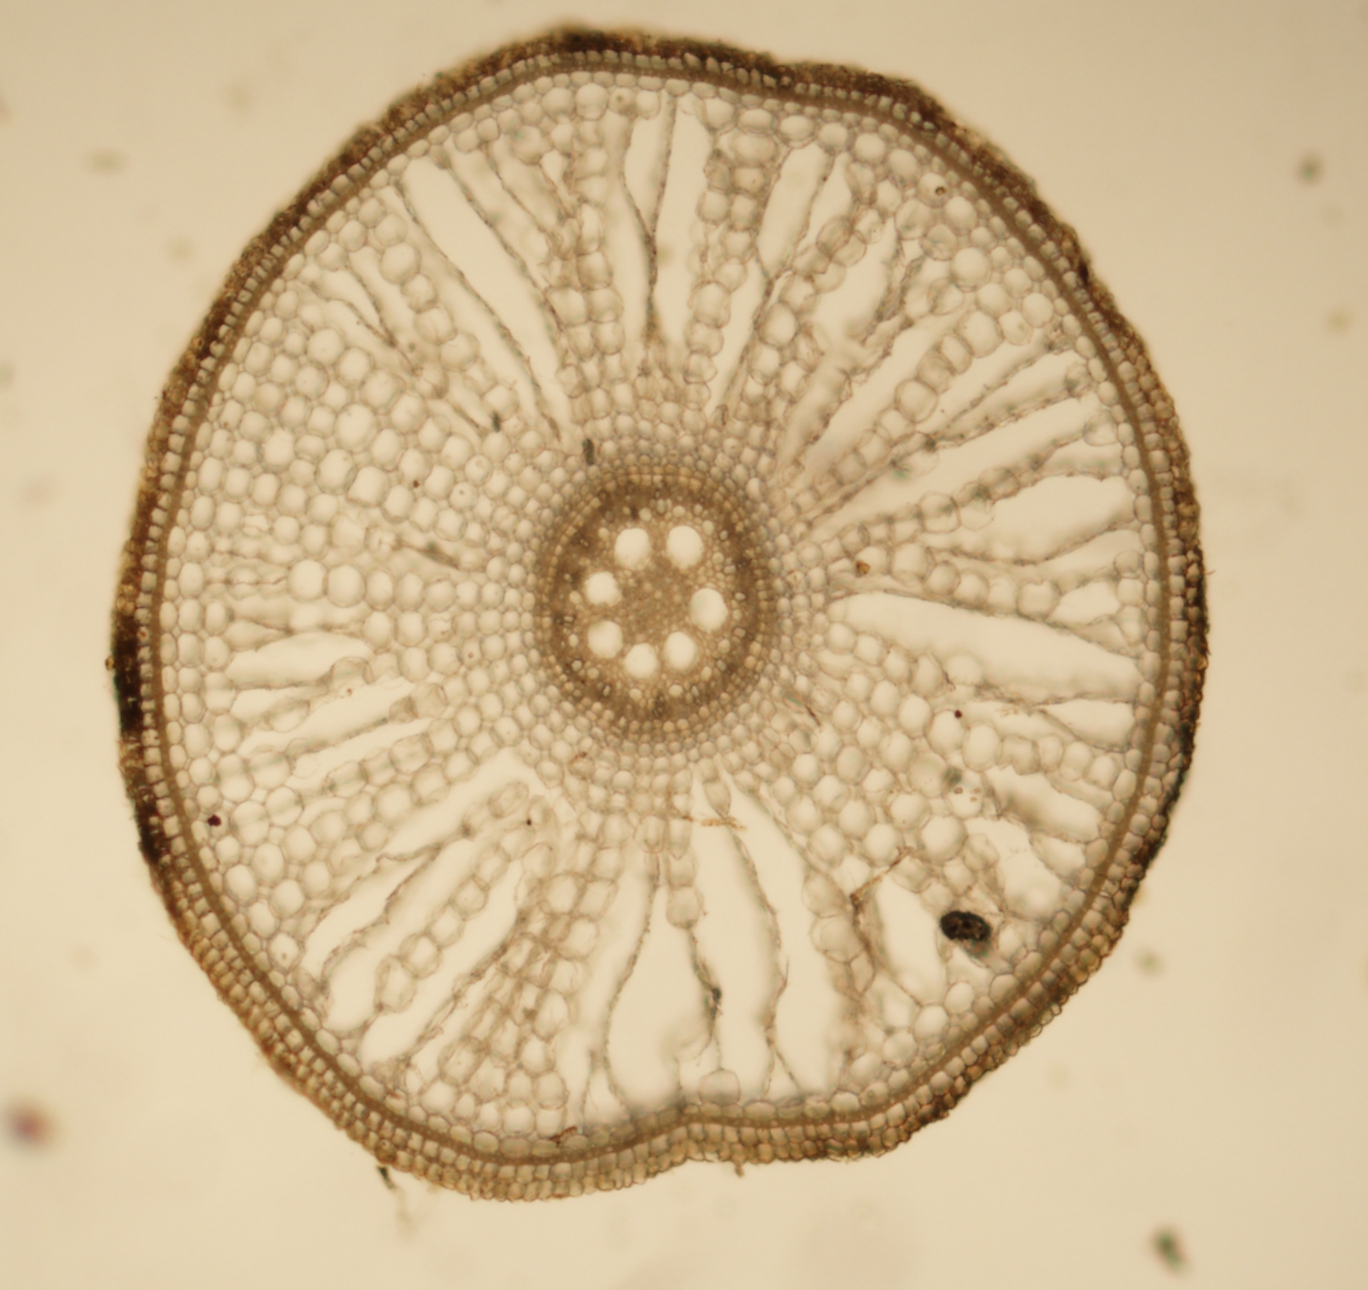lm: (689, 588, 728, 633), (614, 527, 652, 570), (665, 525, 703, 567), (663, 632, 700, 675), (587, 620, 625, 658), (583, 571, 622, 605), (623, 643, 660, 677)
